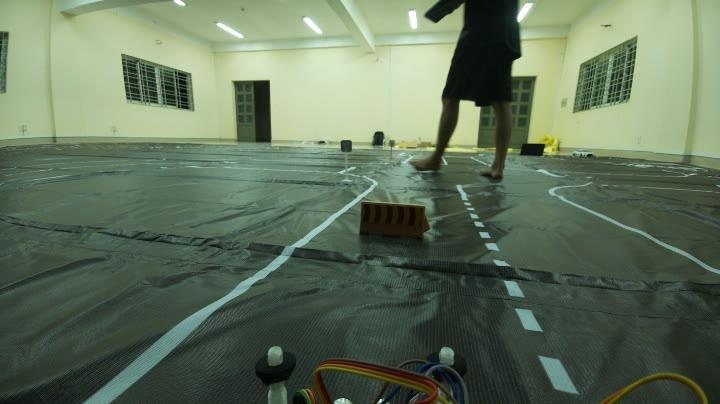roadblock: (347, 188, 444, 251)
